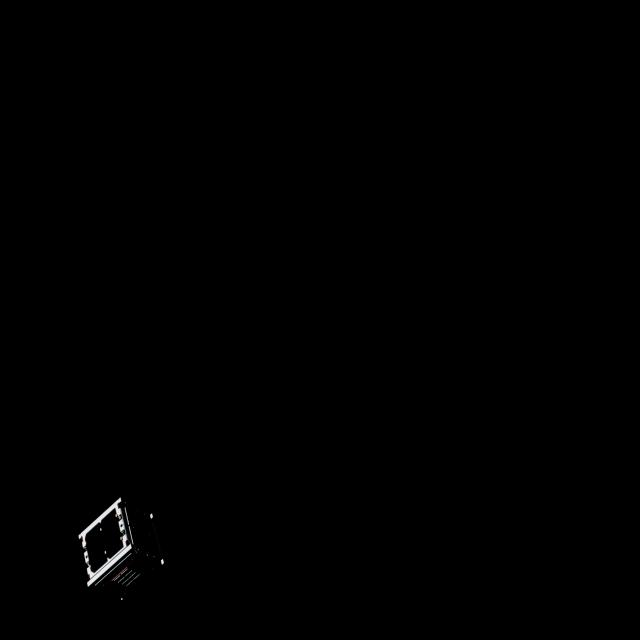medium_debris: (76, 494, 166, 598)
